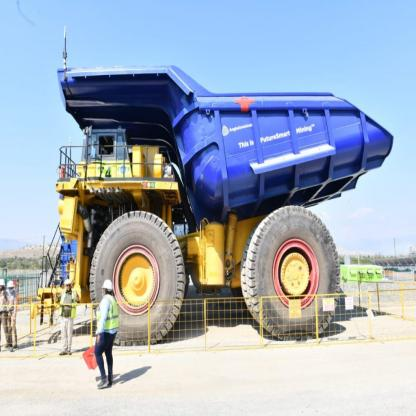dump_truck: (49, 50, 399, 347)
